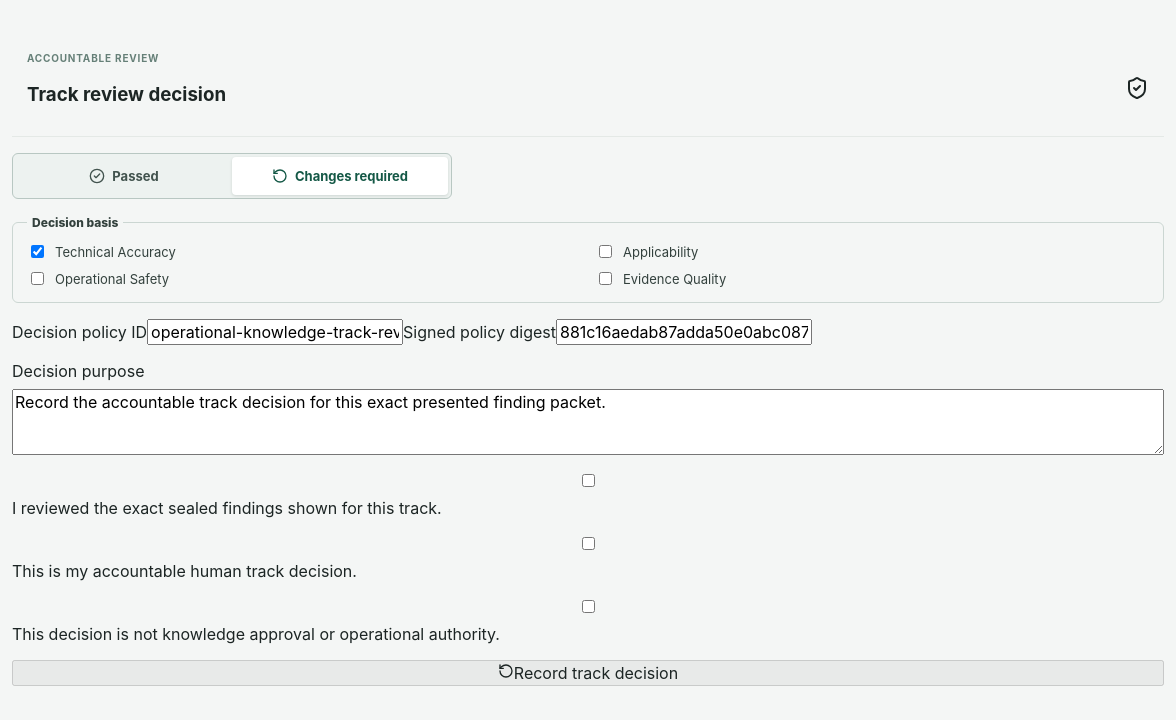
ReviewDecisionPanel › records one explicit track decision without approval or finding content
The image size is (1176, 720).
Step 1. Click the button "Passed" → {"x": 124, "y": 176}, box [16,157,232,195]
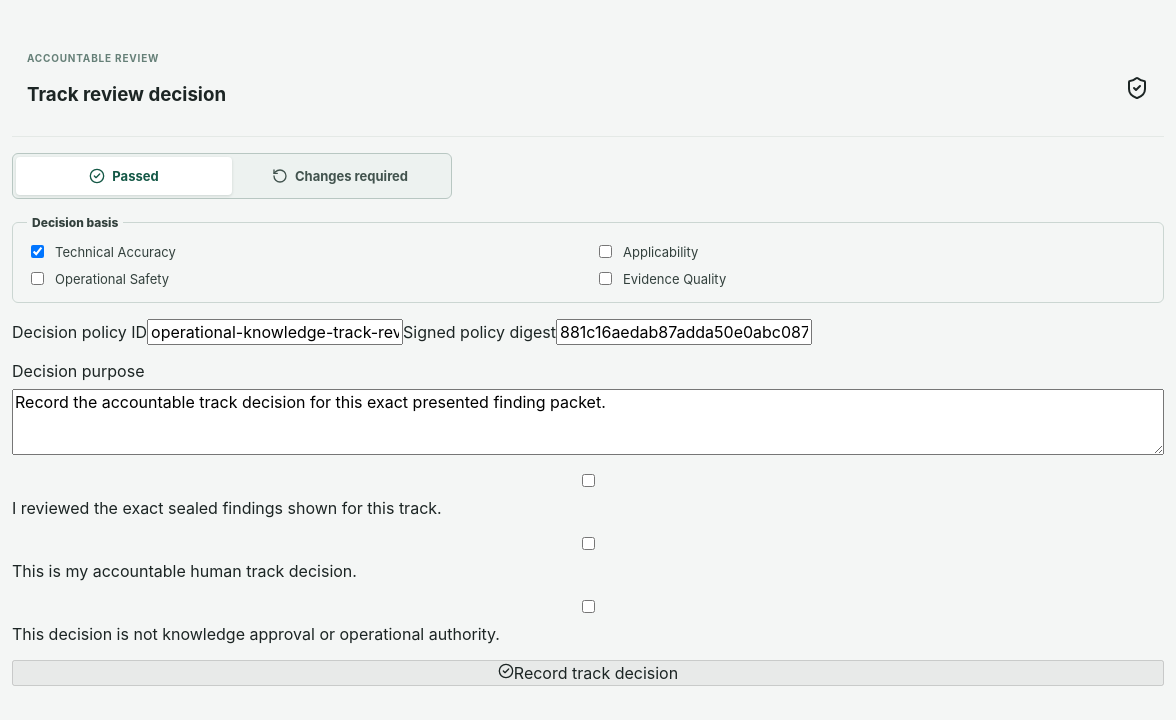
Check: the button "Record track decision" is disabled, box [12,660,1164,686]
Step 2. Click the checkbox labelled "I reviewed the exact sealed findings shown for this track." → {"x": 588, "y": 481}, box [16,474,1161,487]
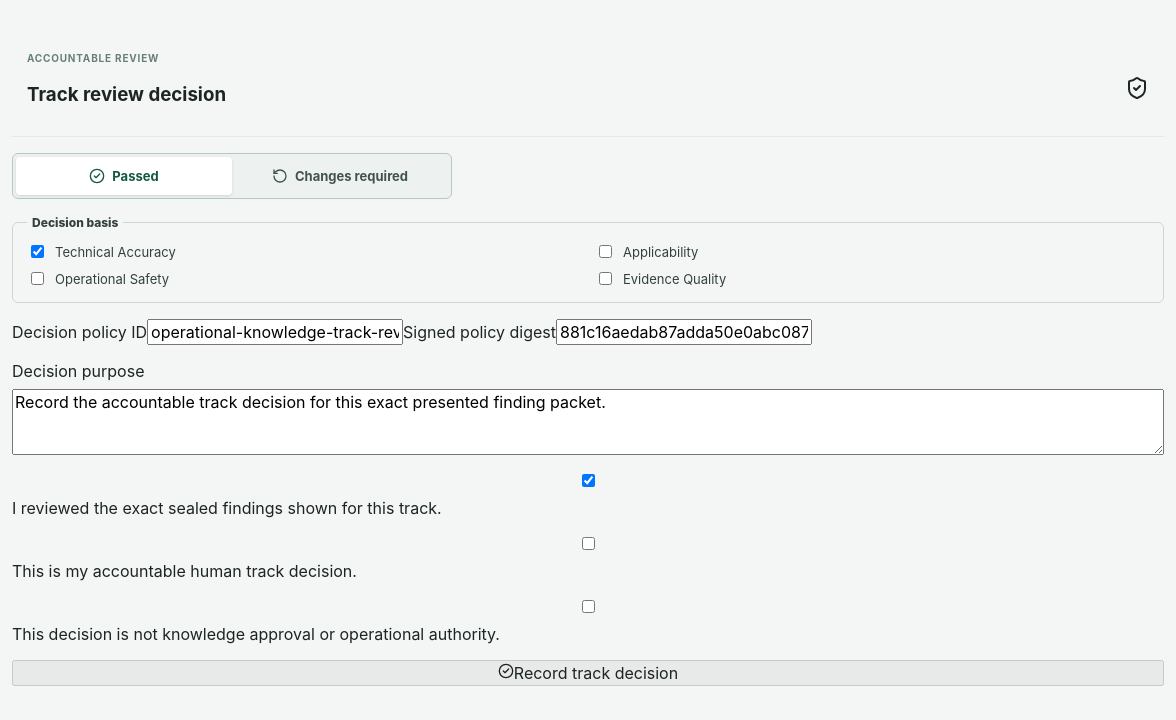
Step 3. Click the checkbox labelled "This is my accountable human track decision." → {"x": 588, "y": 544}, box [16,537,1161,550]
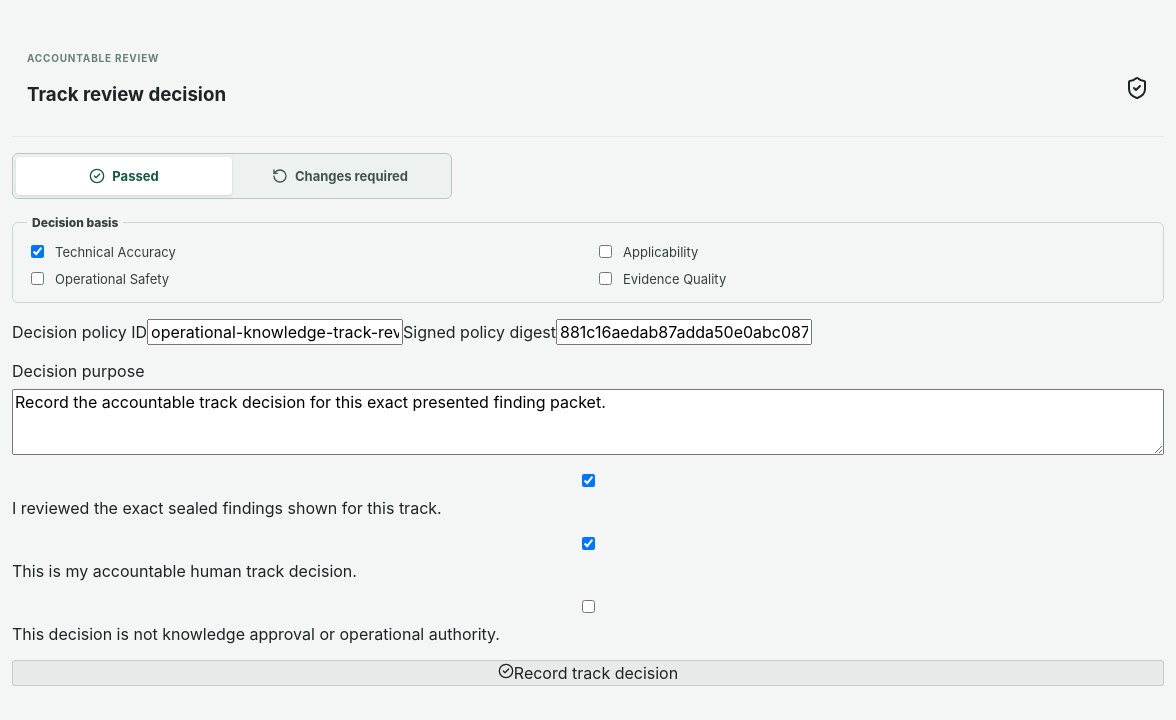
Step 4. Click the checkbox labelled "This decision is not knowledge approval or operational authority." → {"x": 588, "y": 607}, box [16,600,1161,613]
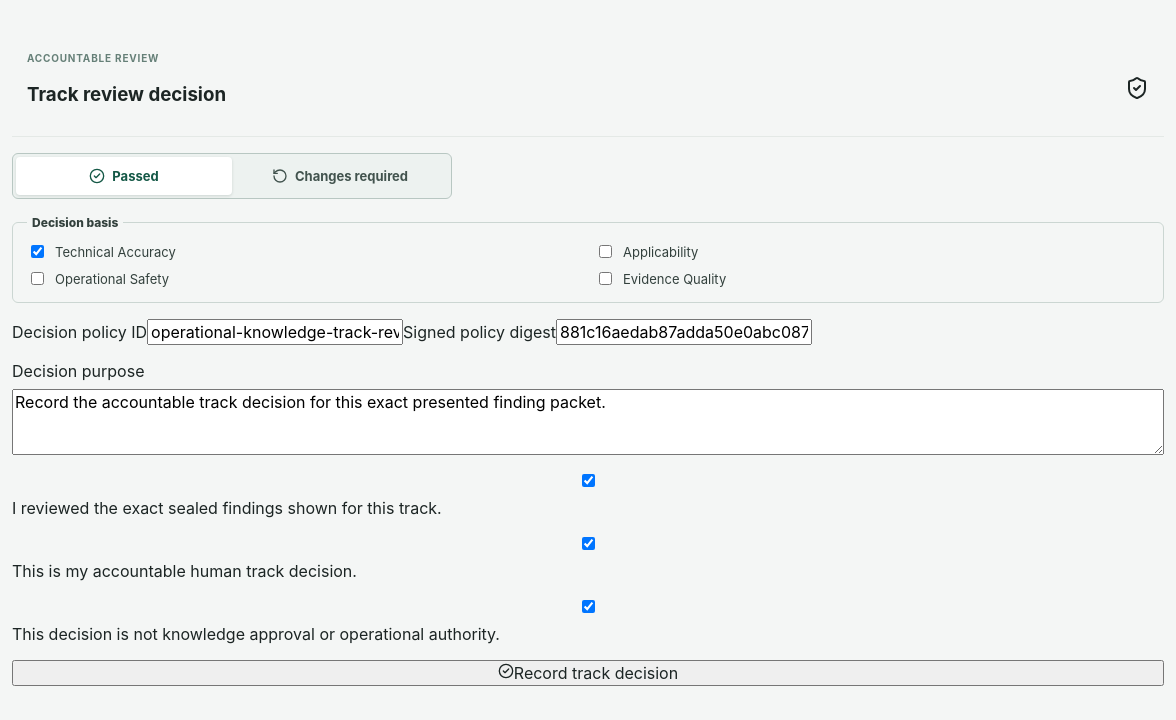
Check: the button "Record track decision" is enabled
Step 5. Click the button "Record track decision" → {"x": 588, "y": 673}, box [12,660,1164,686]
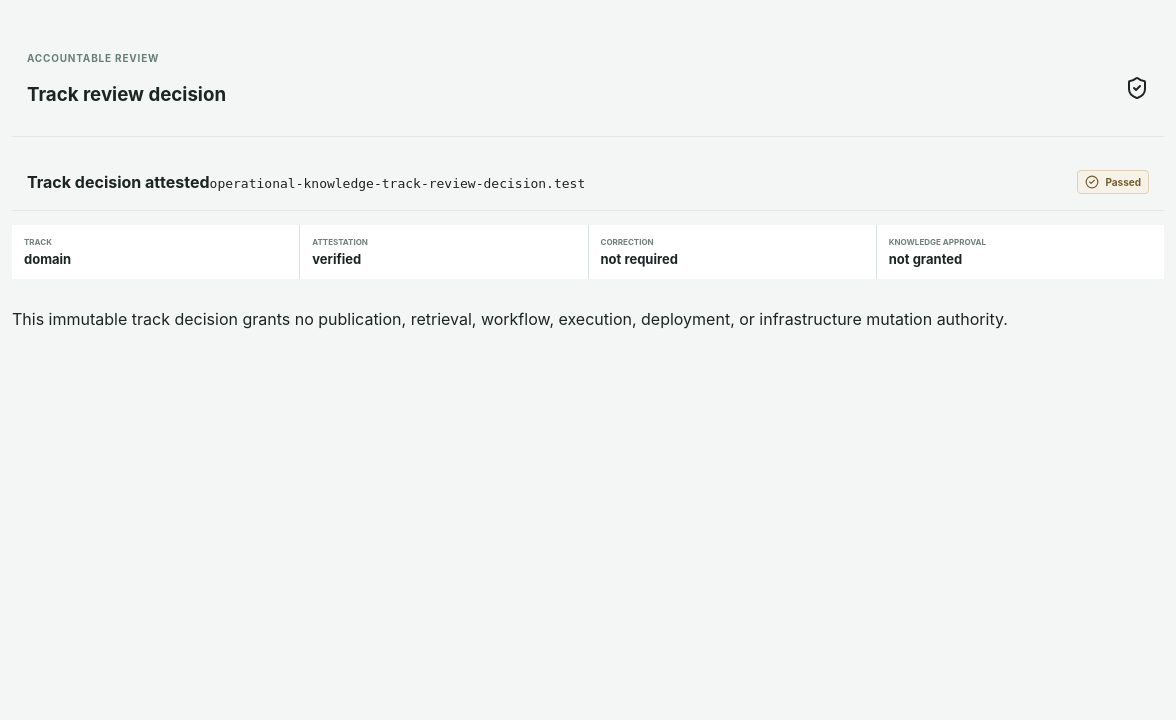
Check: the text "Track decision attested" is shown, box [27,172,210,192]
Check: the text "not granted" is shown, box [889,251,962,267]
